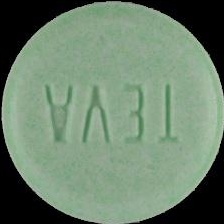0615-8002: (0, 0, 224, 224)
